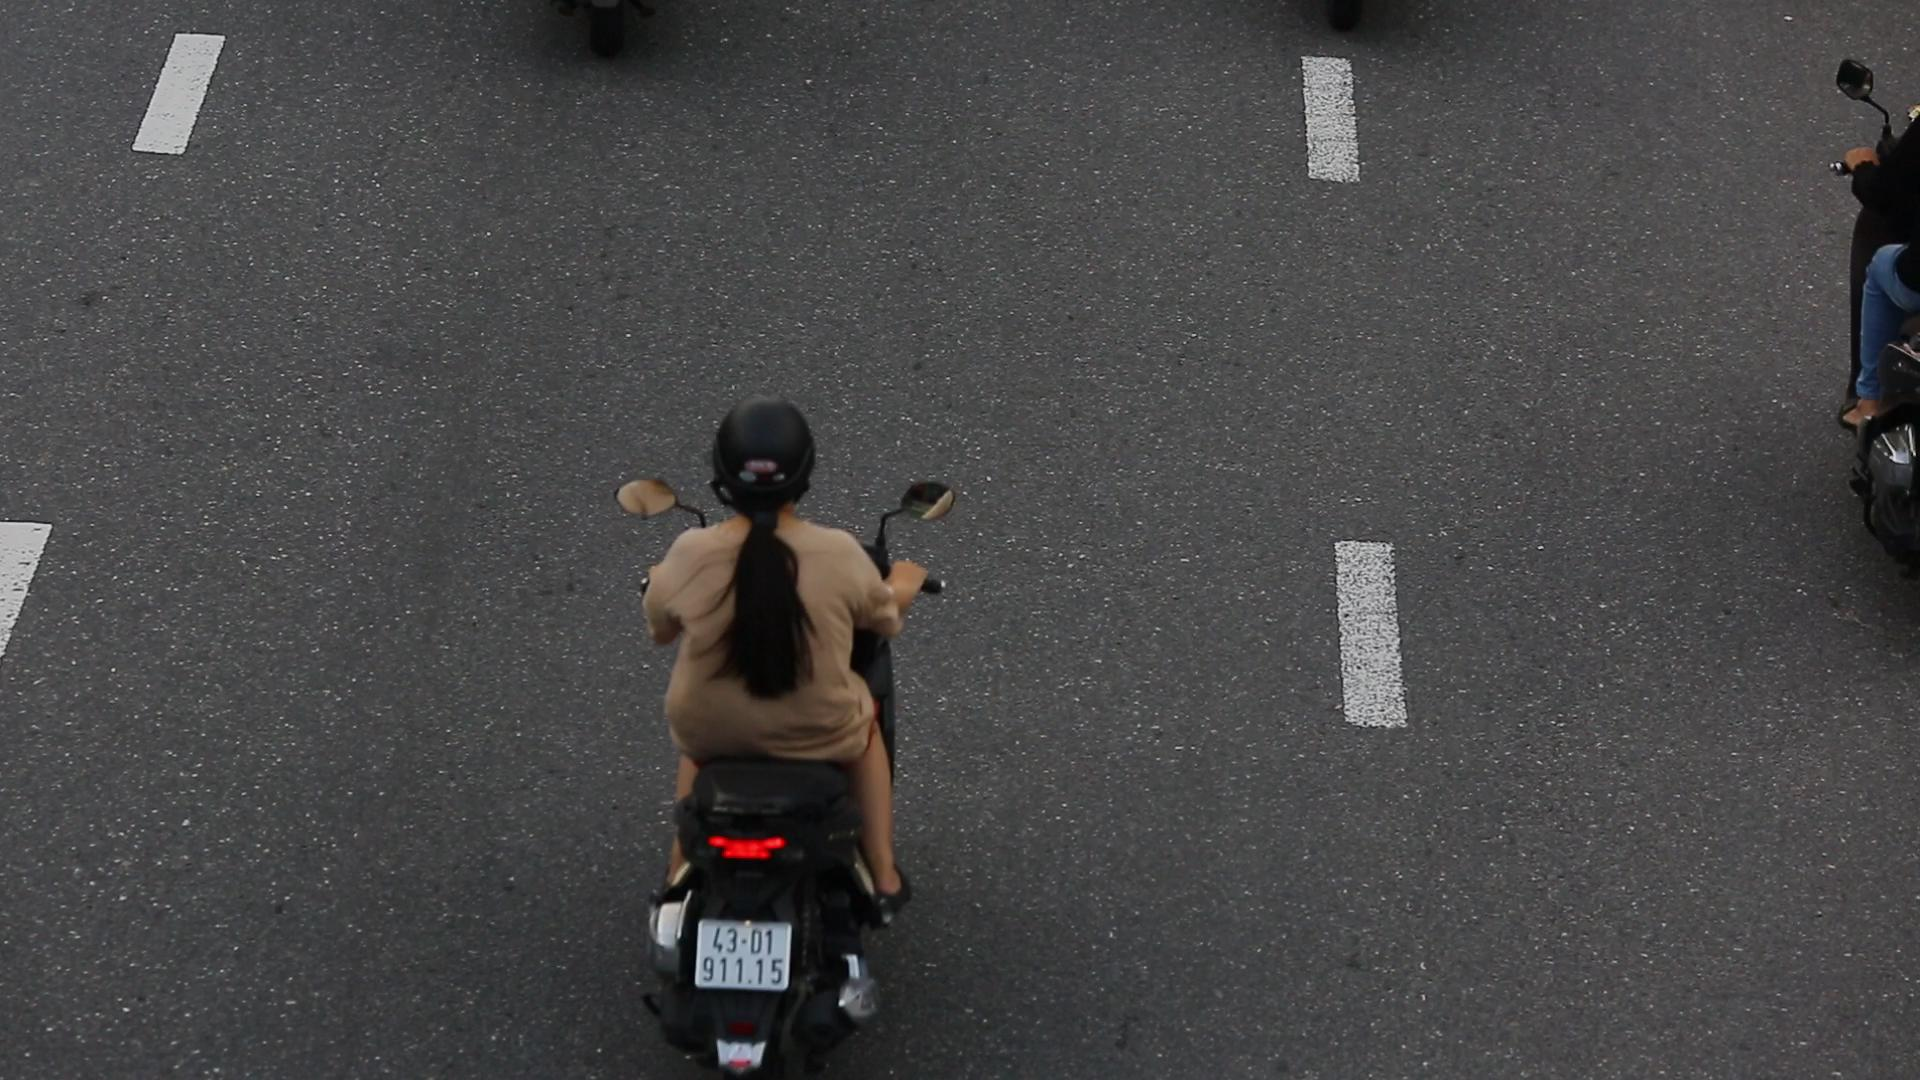motobike: (636, 389, 947, 1080)
